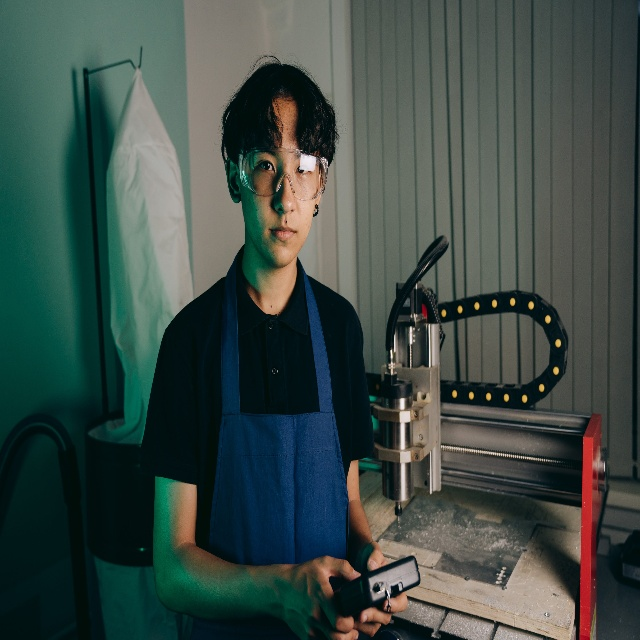Gafas: (237, 150, 330, 206)
Sin_guantes: (288, 559, 365, 640), (349, 541, 406, 640)
